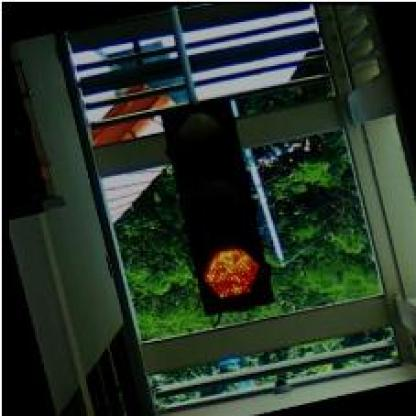red: (150, 90, 282, 317)
